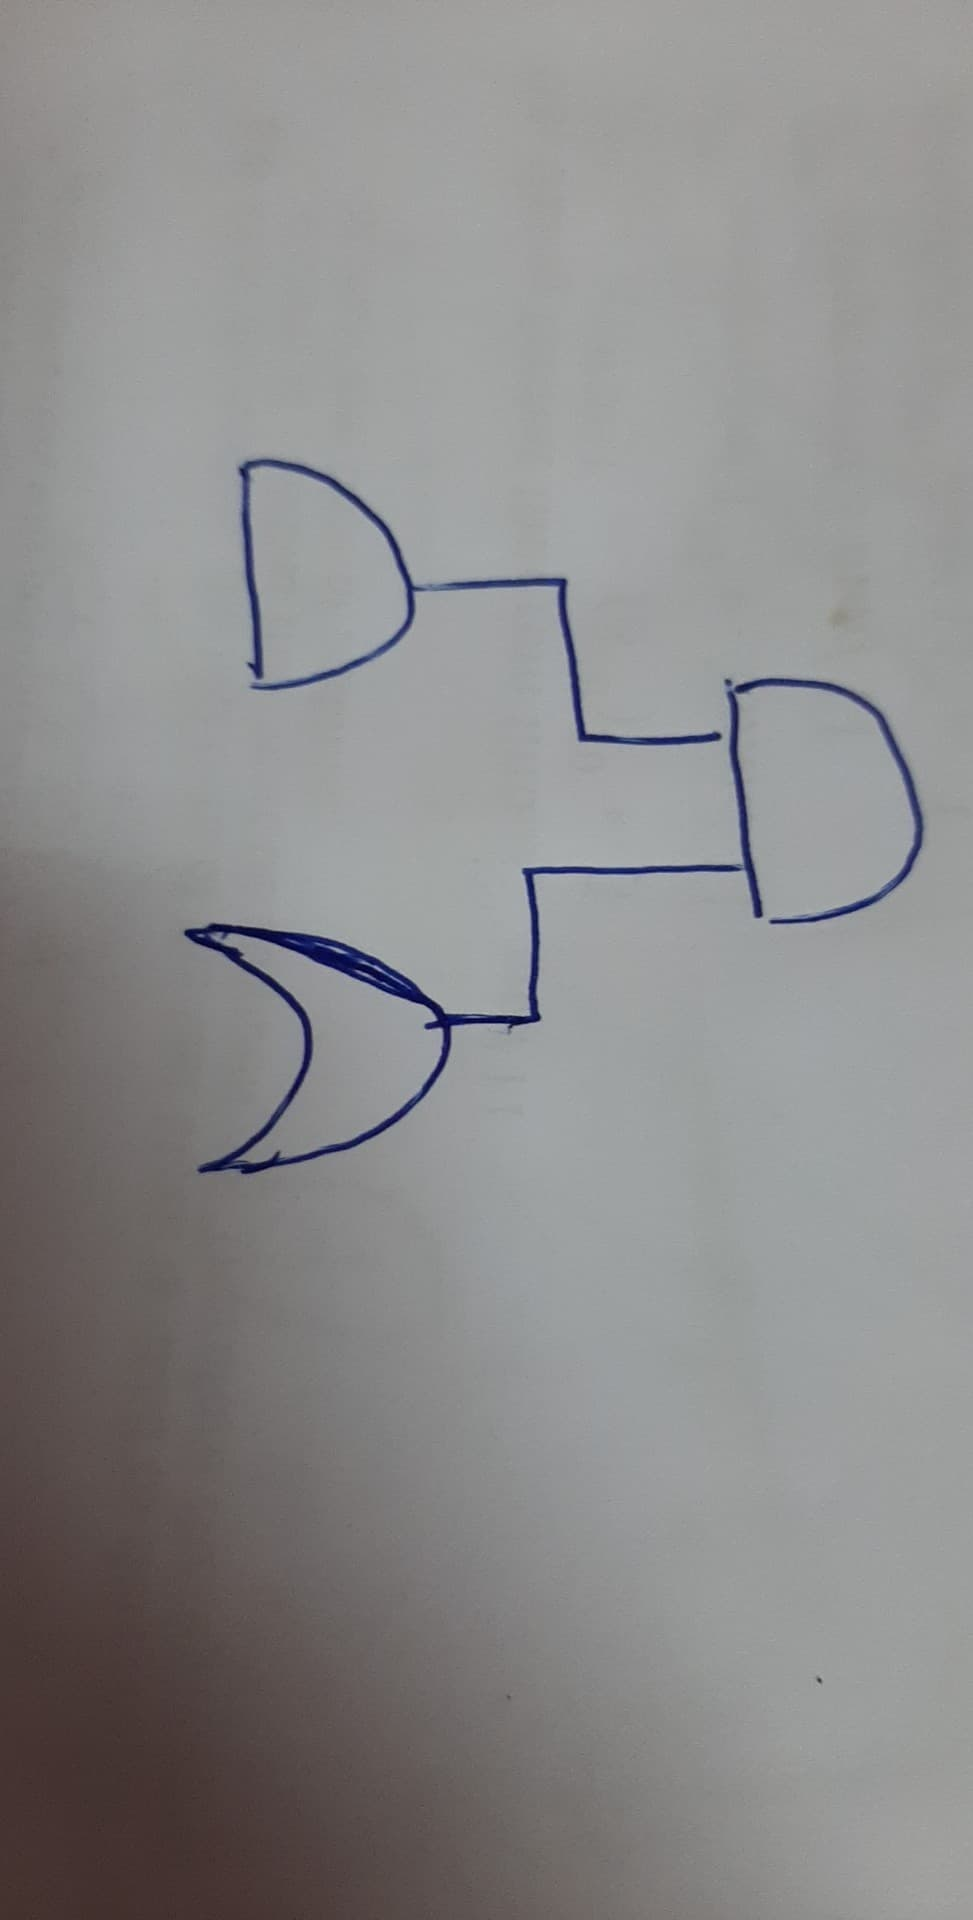and: (707, 660, 939, 943), (223, 466, 426, 706)
